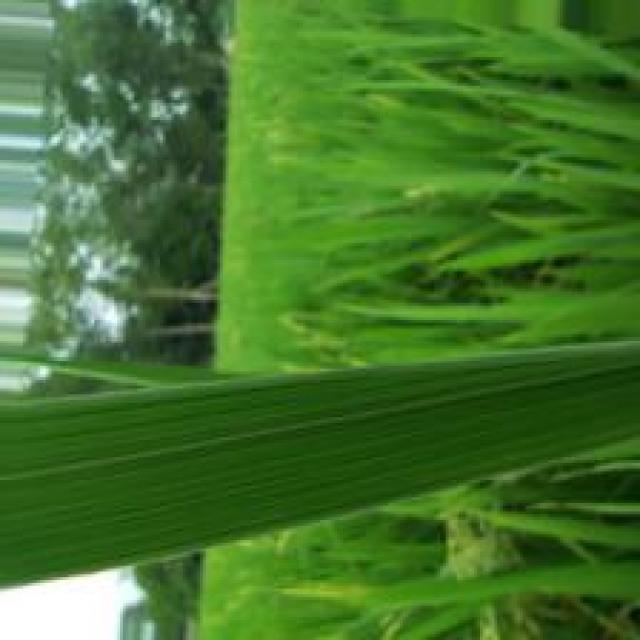HealthyLeaf: (3, 354, 588, 586)
